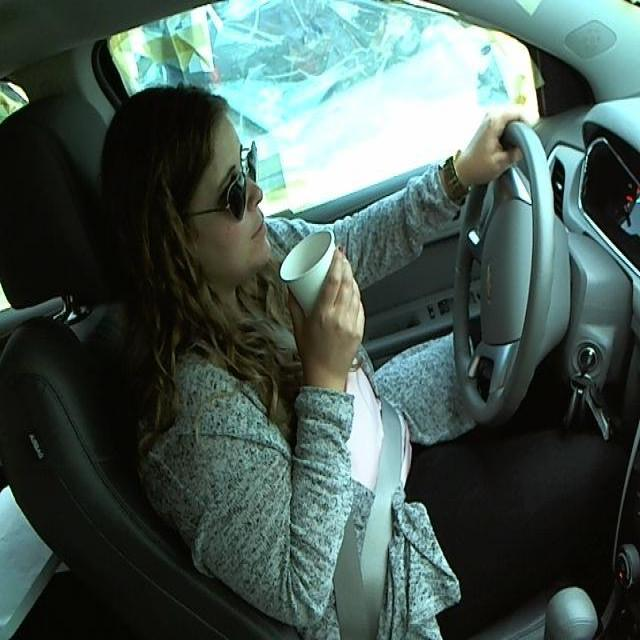drinking: (276, 227, 364, 347)
